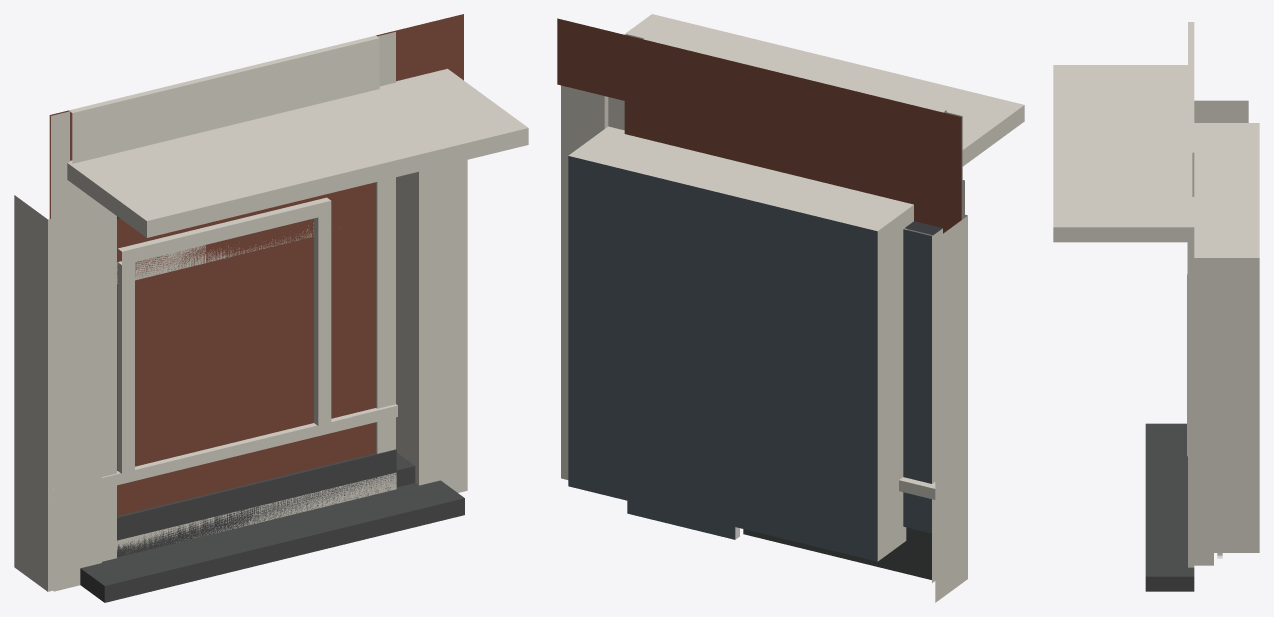
The model's file is brick.glb.
3 views of the same model, side by side, from view 1: azimuth 30°, elevation 25°; view 2: azimuth 150°, elevation 25°; view 3: azimuth 270°, elevation 25° (orthographic). The views are drawn at different scales.
Visible parts, largest first — view 1: brick_entrance, brick_blank, brick_ground_blank, brick_shop, brick_bay, brick_corner, brick_bay_surround, brick_bay_pair, brick_cap, brick_pier; view 2: brick_entrance, brick_ground_blank, brick_shop, brick_corner, brick_bay; view 3: brick_entrance, brick_shop, brick_corner.
Boxes of the visible parts, left/top/right/bottom form: brick_entrance: left=49, top=14, right=528, bottom=602; brick_blank: left=117, top=182, right=375, bottom=513; brick_ground_blank: left=49, top=31, right=396, bottom=557; brick_shop: left=51, top=32, right=395, bottom=453; brick_bay: left=49, top=182, right=375, bottom=515; brick_corner: left=14, top=195, right=106, bottom=591; brick_bay_surround: left=117, top=197, right=331, bottom=473; brick_bay_pair: left=102, top=200, right=375, bottom=485; brick_cap: left=52, top=404, right=397, bottom=551; brick_pier: left=52, top=207, right=116, bottom=590; brick_entrance: left=557, top=14, right=1024, bottom=561; brick_ground_blank: left=624, top=35, right=961, bottom=233; brick_shop: left=626, top=34, right=962, bottom=582; brick_corner: left=935, top=214, right=967, bottom=602; brick_bay: left=914, top=204, right=961, bottom=232; brick_entrance: left=1053, top=65, right=1259, bottom=591; brick_shop: left=1188, top=22, right=1222, bottom=565; brick_corner: left=1194, top=100, right=1248, bottom=122.
Size of what is drawn, in the model's own units: 3.88 by 4.2 by 1.9.
